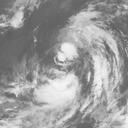cyclone: (57, 18, 113, 67), (34, 72, 80, 106)
